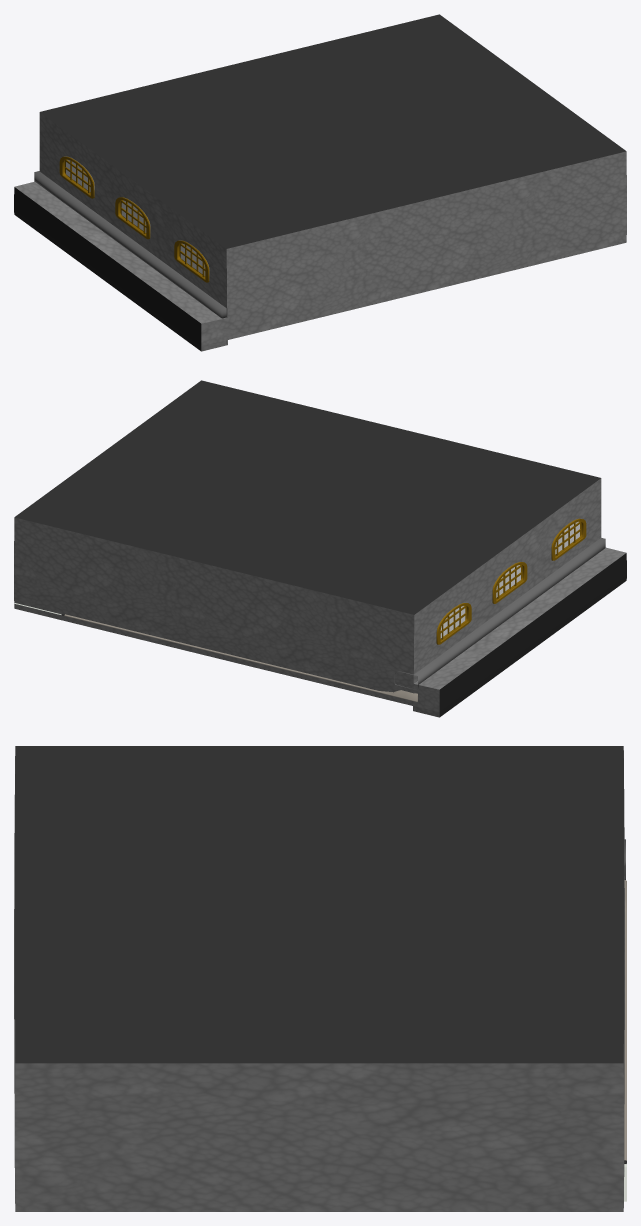
The model's file is bowlinglane_improved.fbx.
The picture shows the model from 3 angles, top to bottom: view 1: azimuth 30°, elevation 25°; view 2: azimuth 150°, elevation 25°; view 3: azimuth 270°, elevation 25°; orthographic projection. The views are drawn at different scales.
Parts seen in each view (by area): view 1: Room, Header, Cube.002, Cube.004, Cube.003; view 2: Room, Header, Floor, Cube.002, Cube.004, Cube.003; view 3: Room, Floor.
Boxes of the visible parts, x1,y1,x2,y2 form: Room: [14, 14, 626, 351]; Header: [34, 171, 226, 318]; Cube.002: [174, 240, 209, 282]; Cube.004: [115, 197, 150, 239]; Cube.003: [59, 156, 94, 198]; Room: [14, 380, 626, 717]; Header: [394, 537, 605, 690]; Floor: [14, 603, 417, 701]; Cube.002: [551, 518, 586, 560]; Cube.004: [492, 562, 527, 603]; Cube.003: [436, 603, 471, 644]; Room: [14, 746, 624, 1211]; Floor: [624, 880, 626, 1201].
Bounding box in the file's own units: 16581 × 3596 × 12718.
